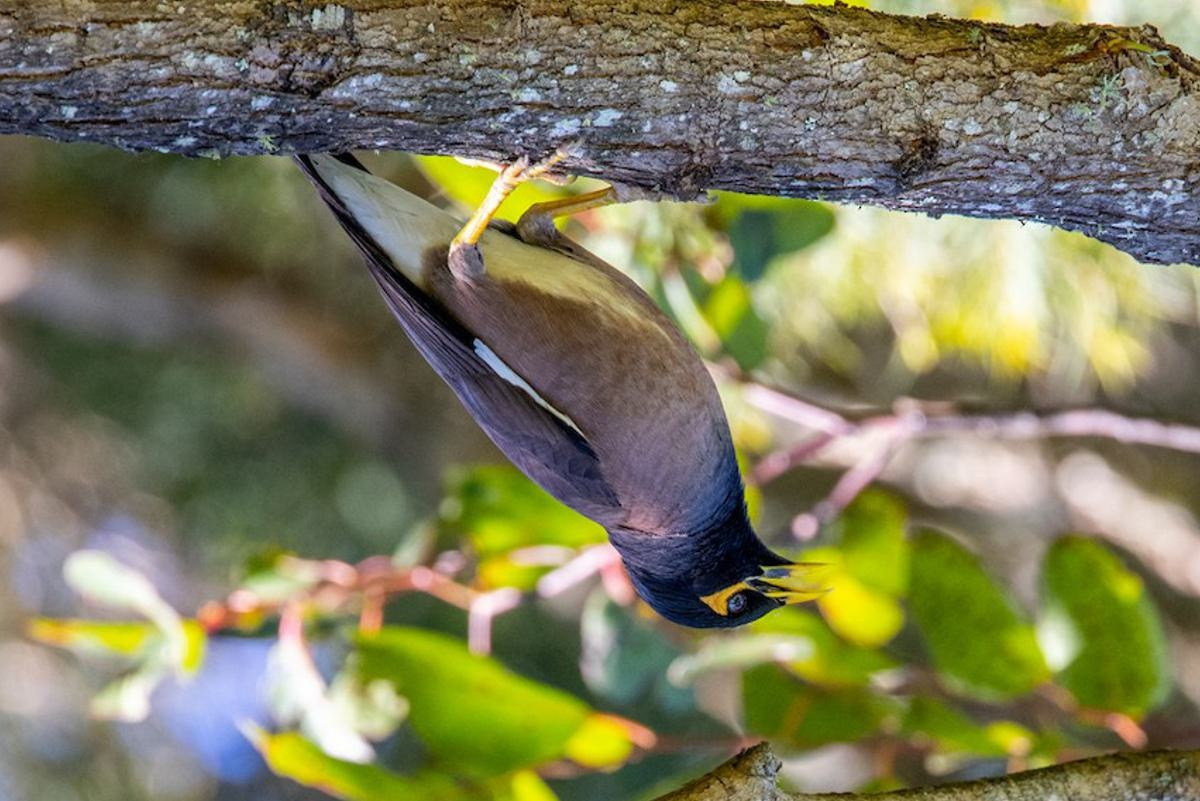myna: (274, 112, 831, 622)
